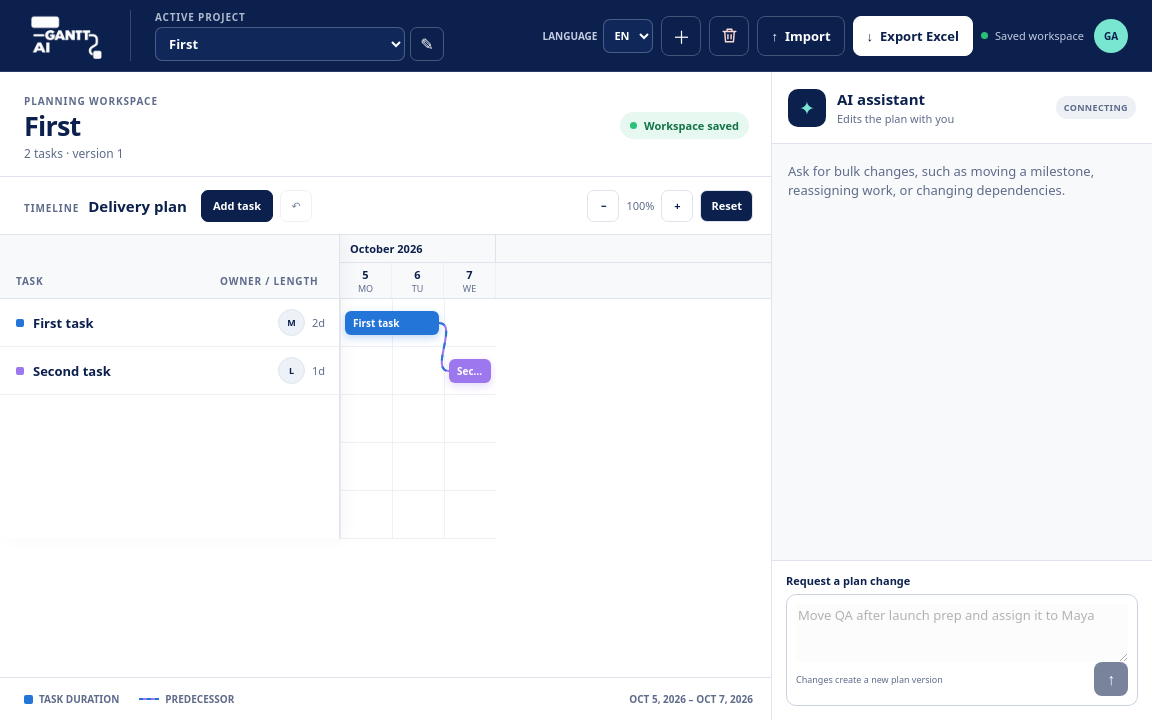
plan view › cancels deletion and preserves state when confirmed deletion fails
The width and height of the screenshot is (1152, 720).
Click the button named "Delete project" at [729, 36], box [709, 16, 749, 56]
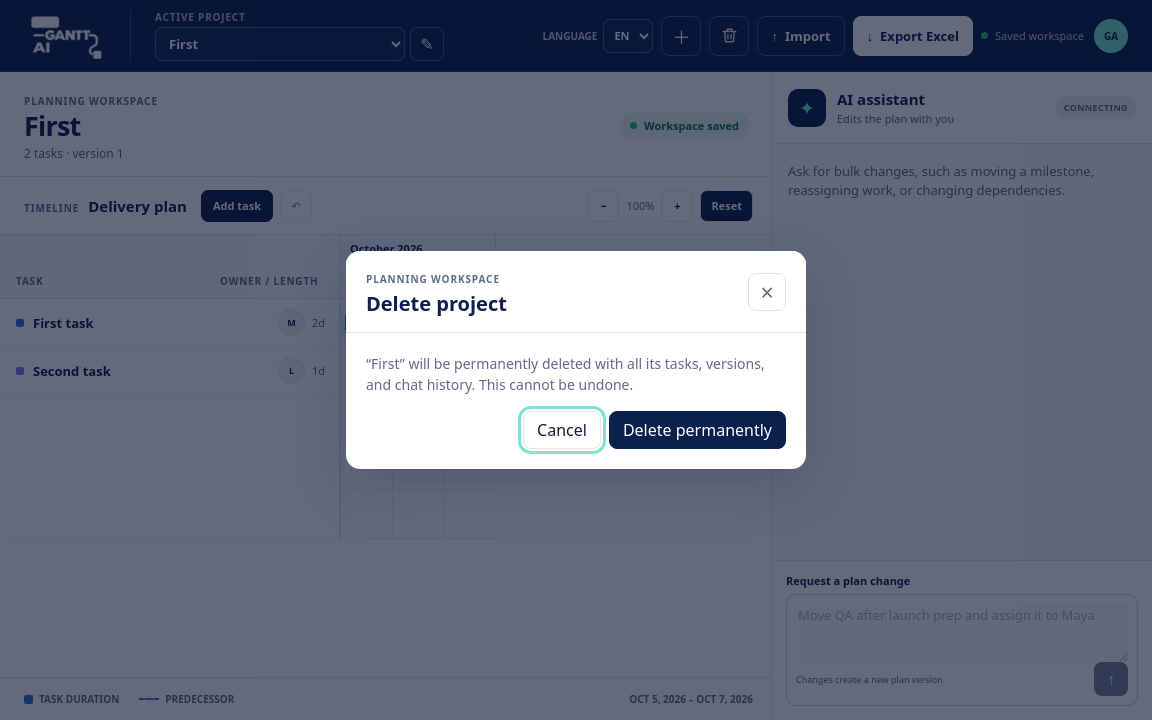
Click the button "Cancel" at [562, 430], box [523, 411, 601, 449]
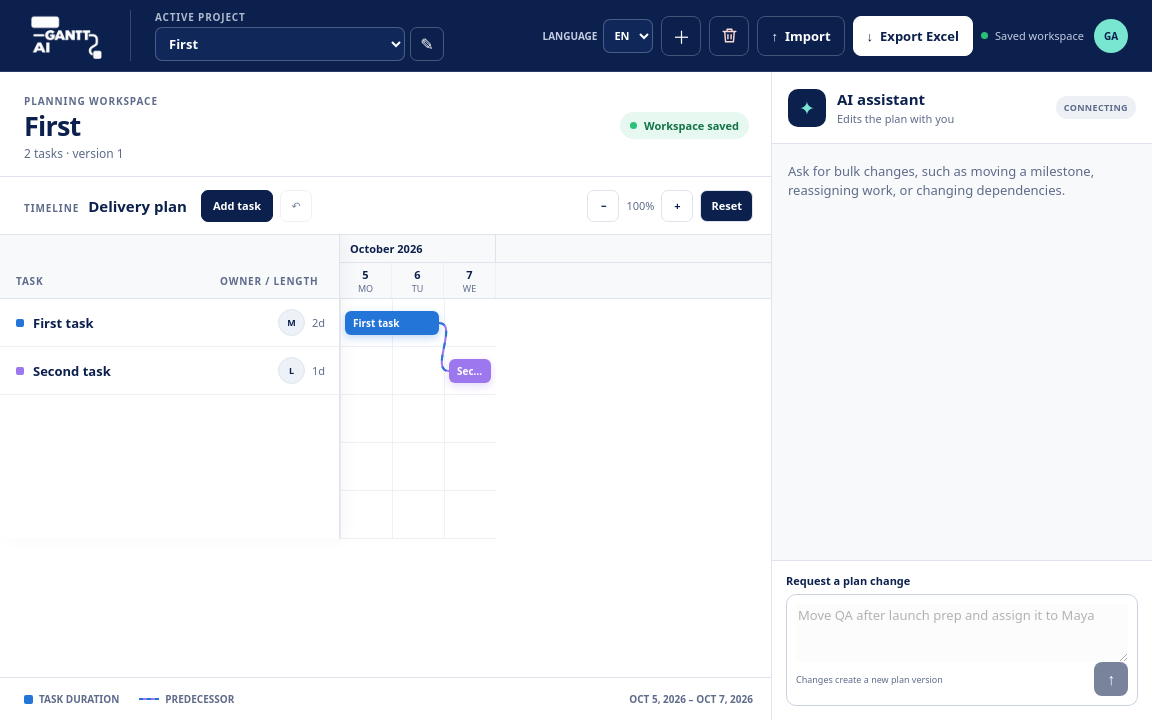
Expected: the dialog is gone
Click the button named "Delete project" at [729, 36], box [709, 16, 749, 56]
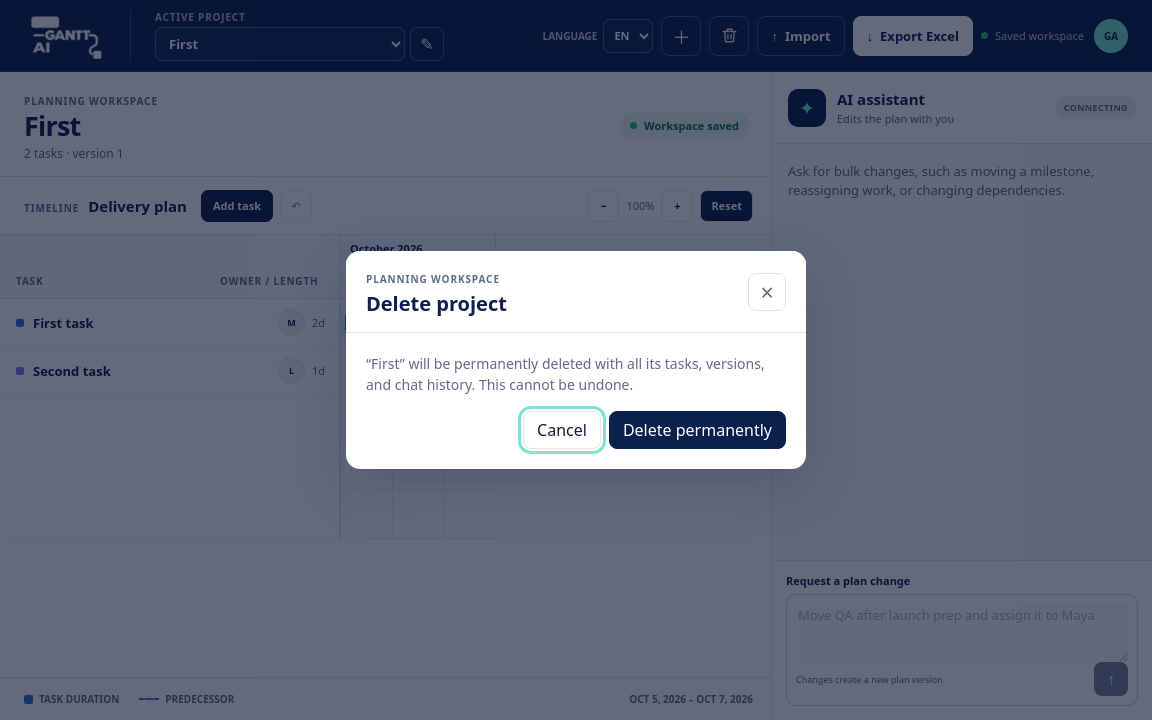
Click the button "Delete permanently" at [697, 430], box [609, 411, 786, 449]
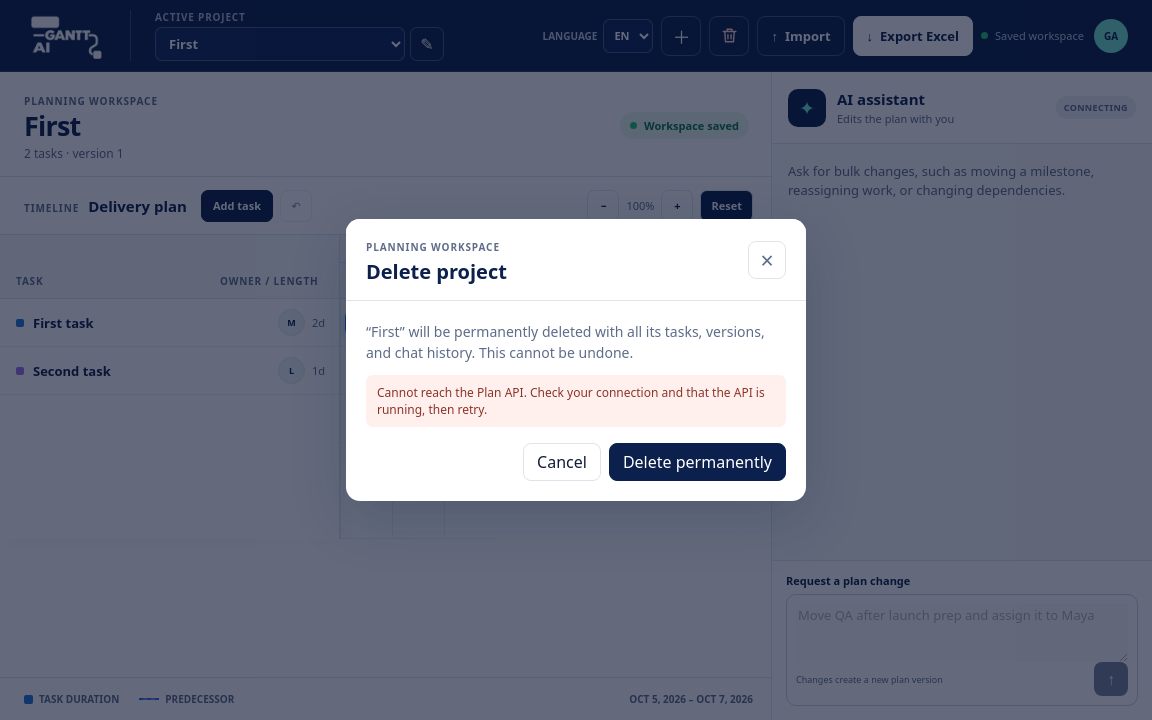
Expected: the text "First task" is shown, [33, 314, 94, 332]
Expected: the dialog is shown, [346, 219, 806, 501]
Expected: the message shows "Cannot reach", [377, 384, 765, 418]
